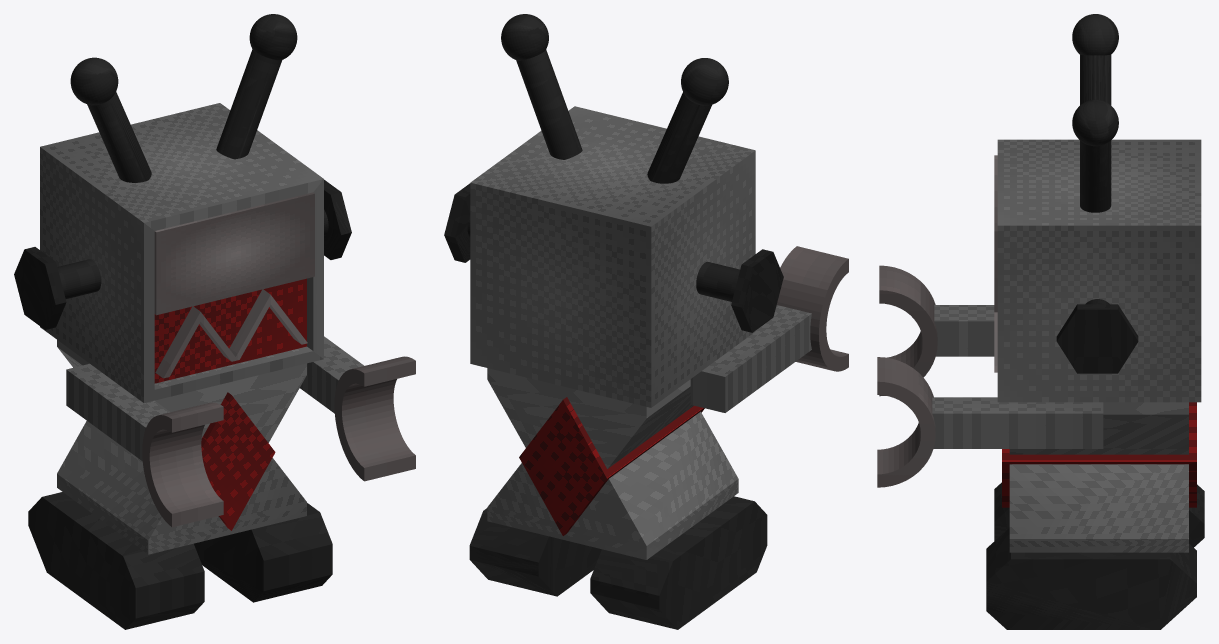
Rendered from HaywireBot.obj.
3 views of the same model, side by side, from view 1: azimuth 30°, elevation 25°; view 2: azimuth 150°, elevation 25°; view 3: azimuth 270°, elevation 25° (orthographic). The views are drawn at different scales.
Visible parts, largest first — view 1: HaywireBot; view 2: HaywireBot; view 3: HaywireBot.
Boxes of the visible parts, left/top/right/bottom form: HaywireBot: left=14, top=14, right=415, bottom=629; HaywireBot: left=444, top=14, right=848, bottom=629; HaywireBot: left=877, top=14, right=1204, bottom=629.
Bounding box in the file's own units: 4.3 × 7.45 × 4.2.
